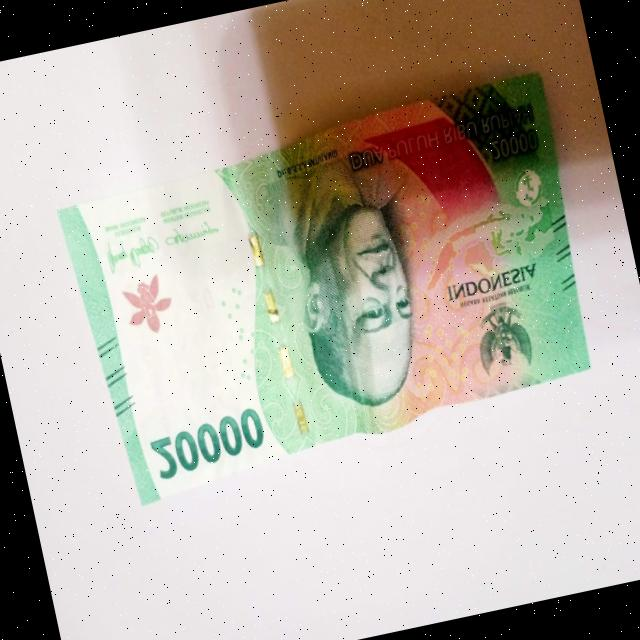20K: (22, 59, 618, 520)
